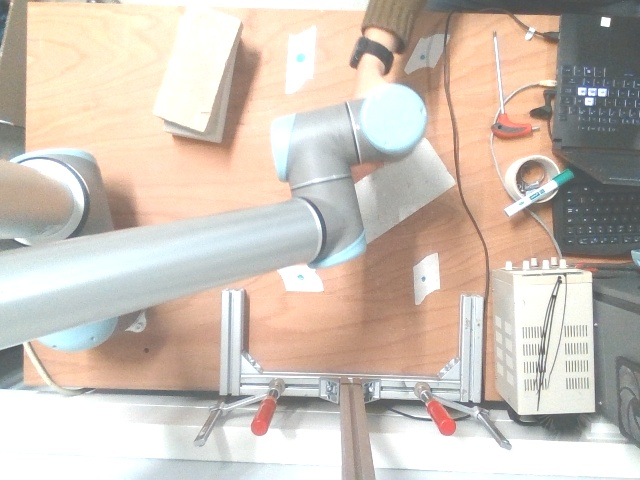brick: (157, 3, 239, 128)
